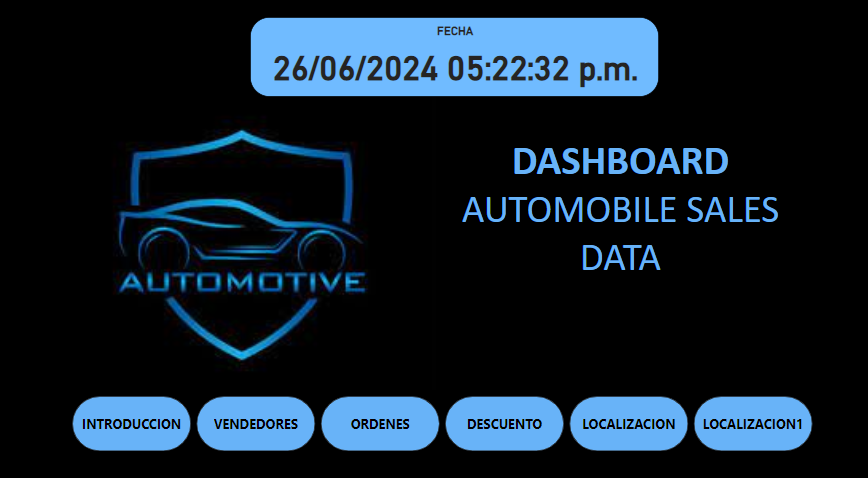

What the dashboard file says about the page in this screenshot:
{"tool":"powerbi","page":{"name":"Portada","canvas":[1280,720],"ordinal":0},"visuals":[{"type":"image","box":[64.8,131,586.1,495.4],"z":0},{"type":"textbox","box":[639.4,207.4,542.9,303.8],"z":1000},{"type":"pageNavigator","box":[112.3,578.9,1082.9,95],"z":2000},{"type":"card","title":"FECHA","fields":{"Values":["Tabla Medidas.HOY"]},"box":[377.3,41.8,589,115.2],"z":3000}]}

Visuals, with their boxes in screenshot pixels (x1, y1, x2, y2), scaled from the page's 1280x720 canvas onto the 868x478 screenshot:
image: 44 87 441 416
textbox: 434 138 802 339
pageNavigator: 76 384 810 447
"FECHA" card: 256 28 655 104
